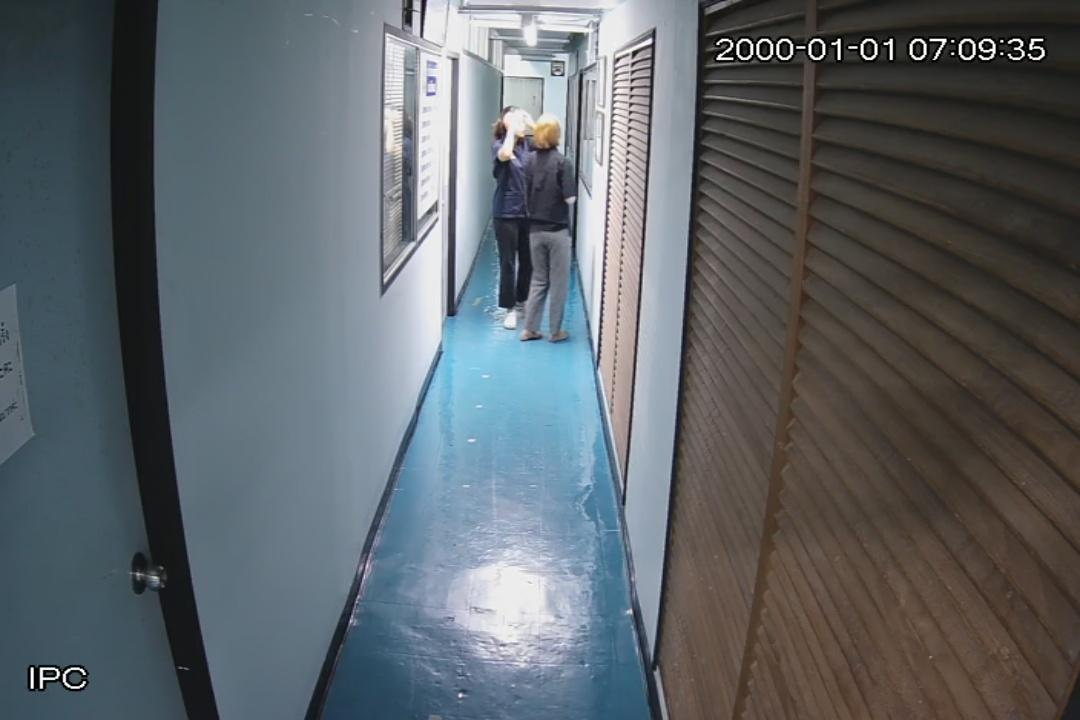normal: (525, 114, 581, 344), (489, 104, 532, 330)
